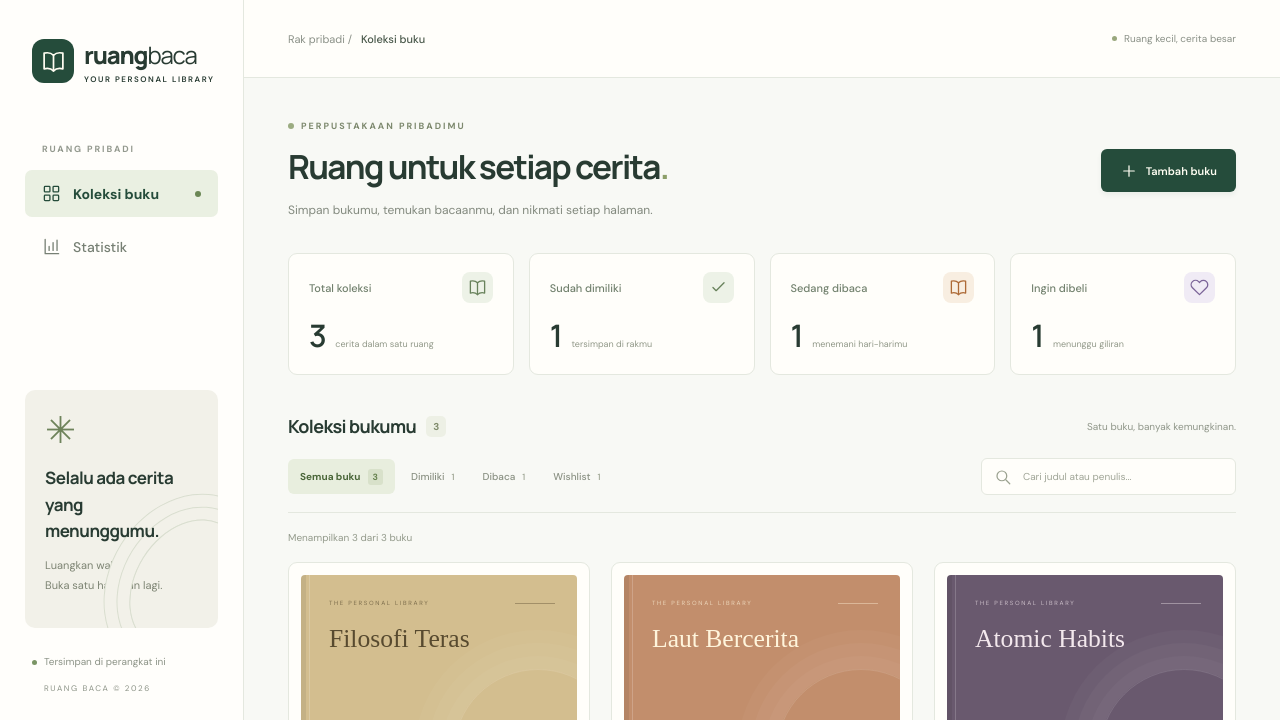
Test case: Aplikasi manajemen buku › mencari berdasarkan sebagian judul tanpa membedakan huruf besar
The image size is (1280, 720).
Type "LAUT" into the search field at (1122, 477), box [1021,469,1223,484]
(page scrolled)
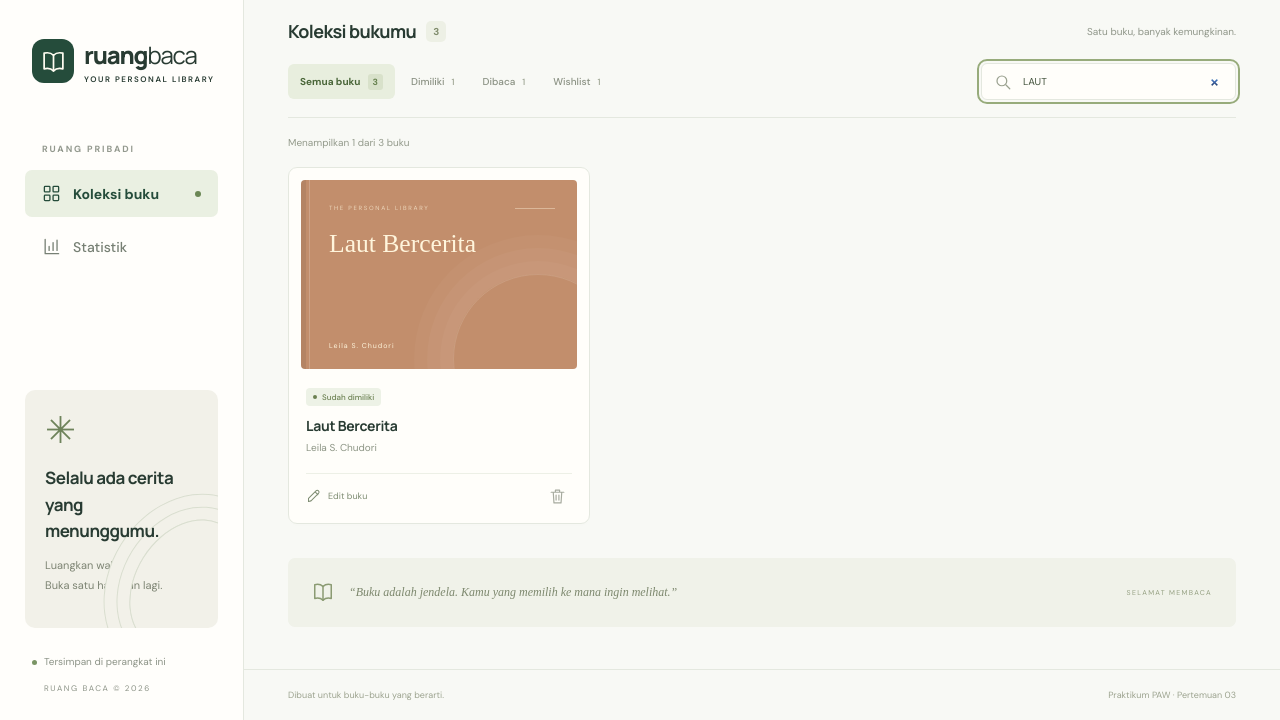
Expected: the heading "Laut Bercerita" is shown, [306,416,398,435]
Expected: the text "Atomic Habits" is gone
